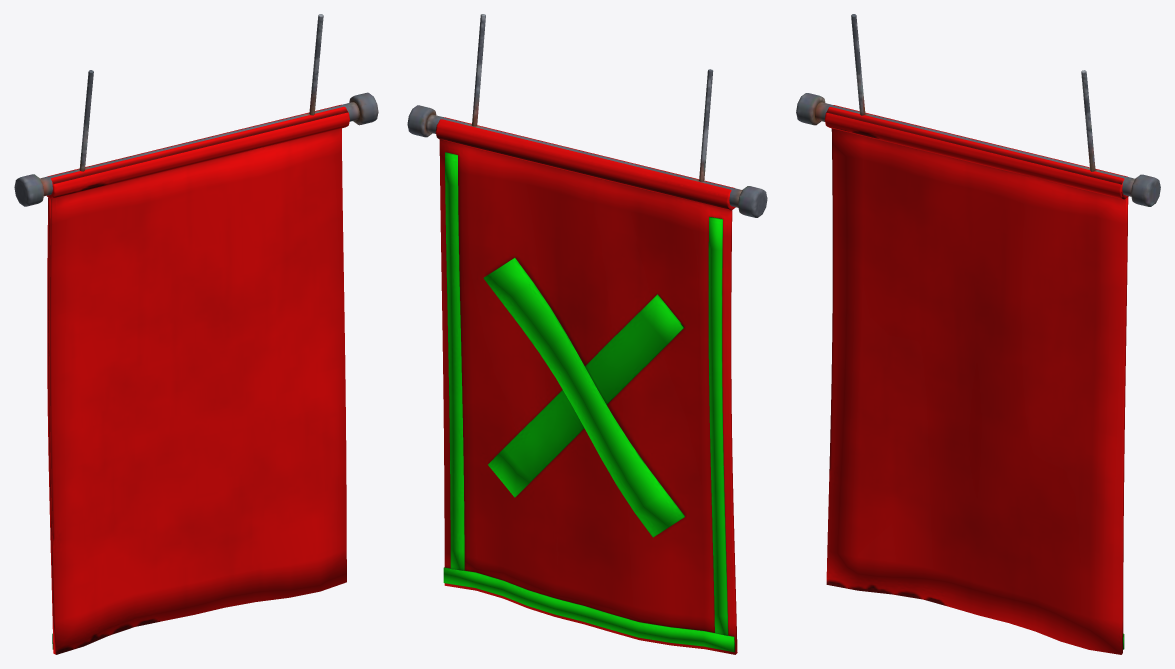
Rendered from arena_banner.glb.
3 views of the same model, side by side, from view 1: azimuth 30°, elevation 25°; view 2: azimuth 150°, elevation 25°; view 3: azimuth 330°, elevation 25° (orthographic).
Parts seen in each view (by area): view 1: cloth, rod; view 2: cloth, rod; view 3: cloth, rod.
Part boxes in pixels (x1,y1,x2,y2): cloth: [47, 104, 349, 654]; rod: [14, 14, 378, 206]; cloth: [435, 117, 737, 654]; rod: [407, 14, 767, 217]; cloth: [824, 105, 1128, 654]; rod: [796, 14, 1160, 206].
Size of the model in its own units: 1.68 by 2.65 by 0.1568.
1 material, 1 textured.
